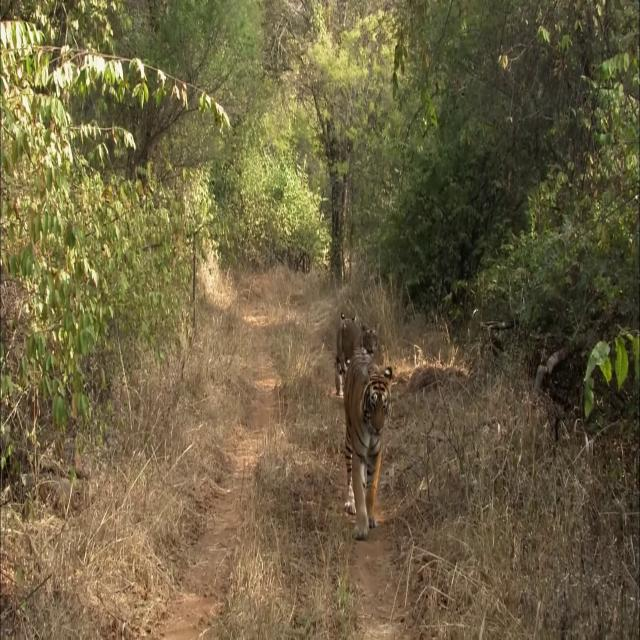tiger: (343, 346, 394, 543)
